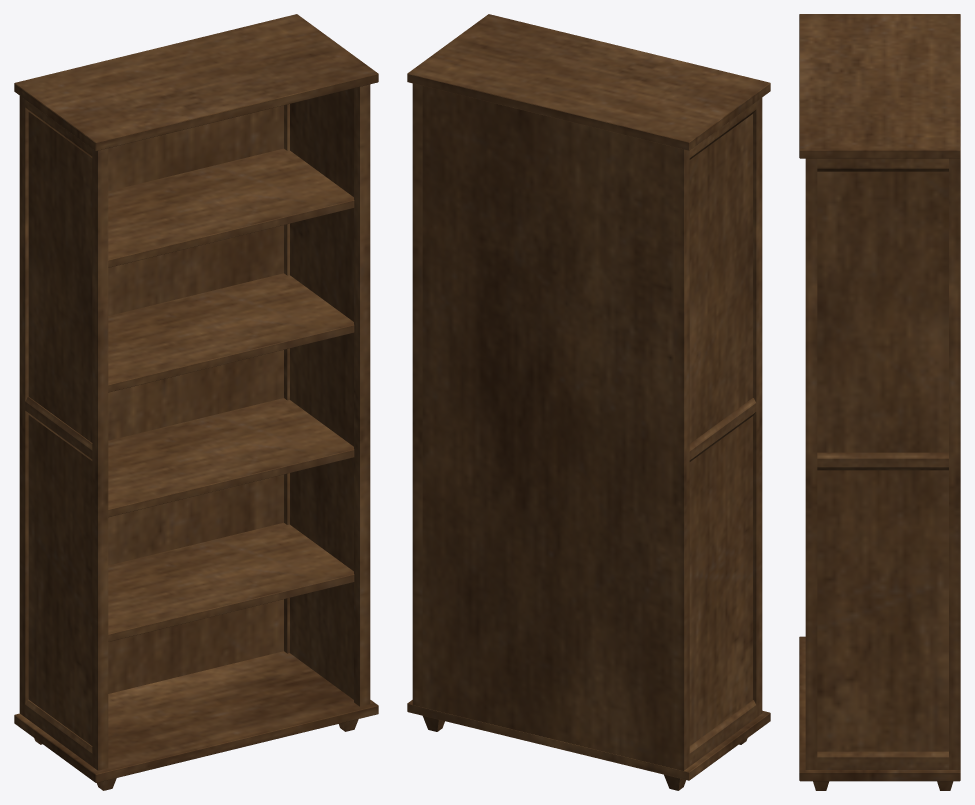
File: WoodenShelf.fbx
3 views of the same model, side by side, from view 1: azimuth 30°, elevation 25°; view 2: azimuth 150°, elevation 25°; view 3: azimuth 270°, elevation 25° (orthographic).
Parts seen in each view (by area): view 1: WoodenShelf; view 2: WoodenShelf; view 3: WoodenShelf.
Part boxes in pixels (x1,y1,x2,y2): WoodenShelf: [14, 14, 378, 790]; WoodenShelf: [407, 14, 770, 790]; WoodenShelf: [799, 14, 960, 790].
Size of the model in its own units: 83.3 by 185 by 41.65.
1 material, 1 textured.
